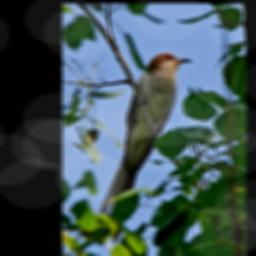Cuckoo: (96, 51, 193, 245)
